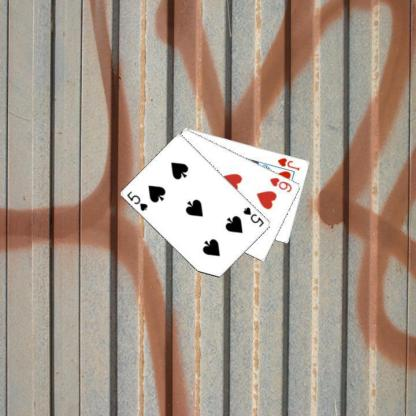5S: (125, 188, 149, 213), (241, 205, 265, 228)
6H: (268, 175, 294, 194)
JH: (275, 154, 301, 172)
